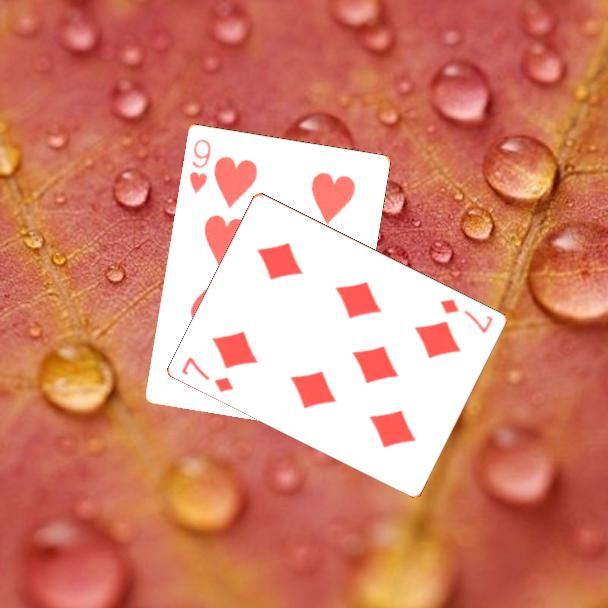d07: (178, 353, 237, 395), (437, 295, 497, 336)
h09: (186, 135, 214, 196)
